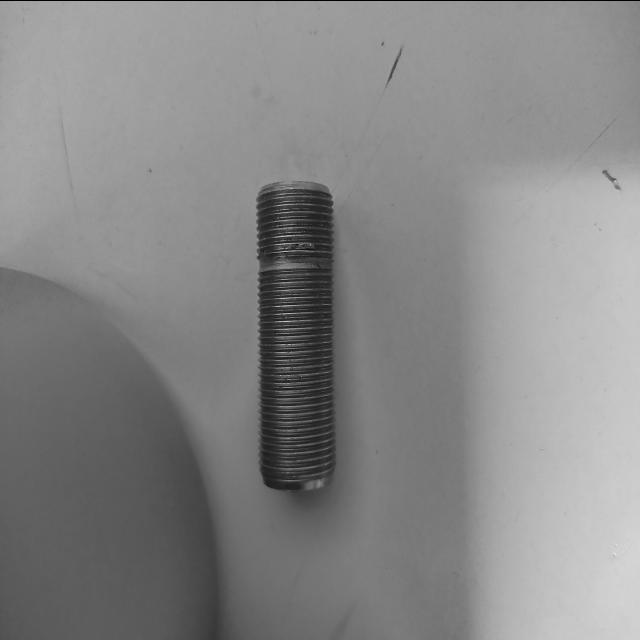Broken: (255, 180, 337, 488)
